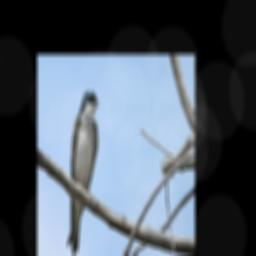Swallow: (67, 90, 100, 256)
